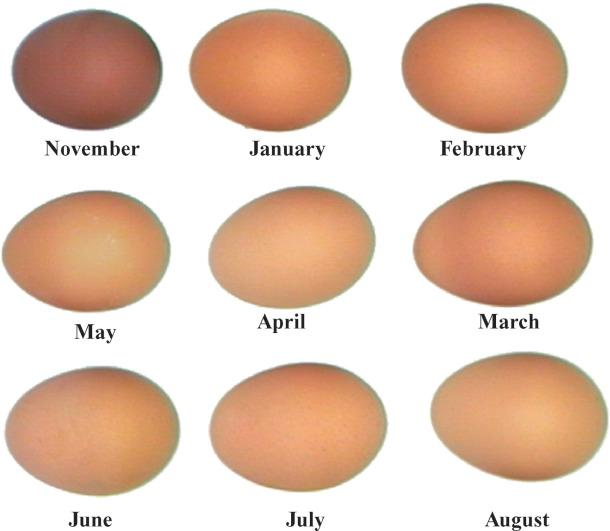egg: (206, 360, 390, 495), (407, 177, 594, 308), (2, 364, 181, 498), (428, 350, 608, 482), (397, 1, 570, 135), (206, 183, 377, 311), (1, 187, 172, 314), (187, 4, 354, 132), (7, 2, 165, 133)
